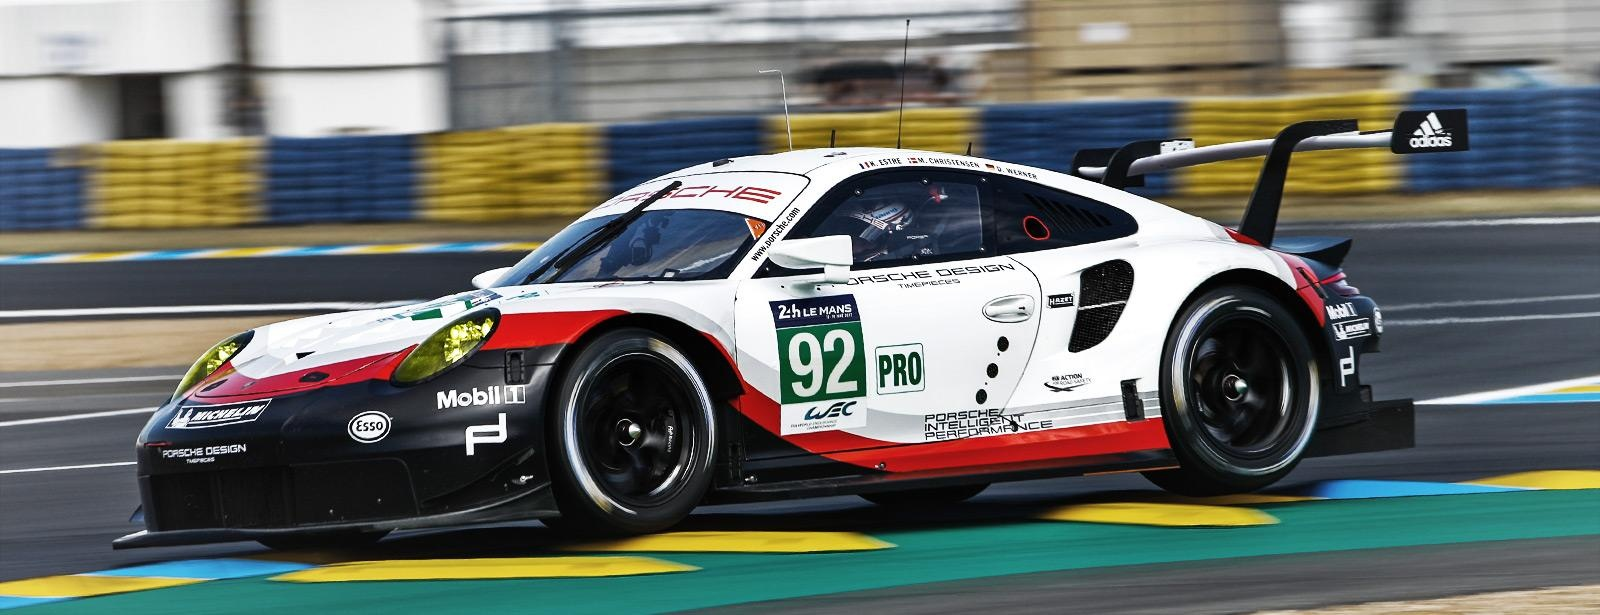racing car: (114, 107, 1469, 531)
